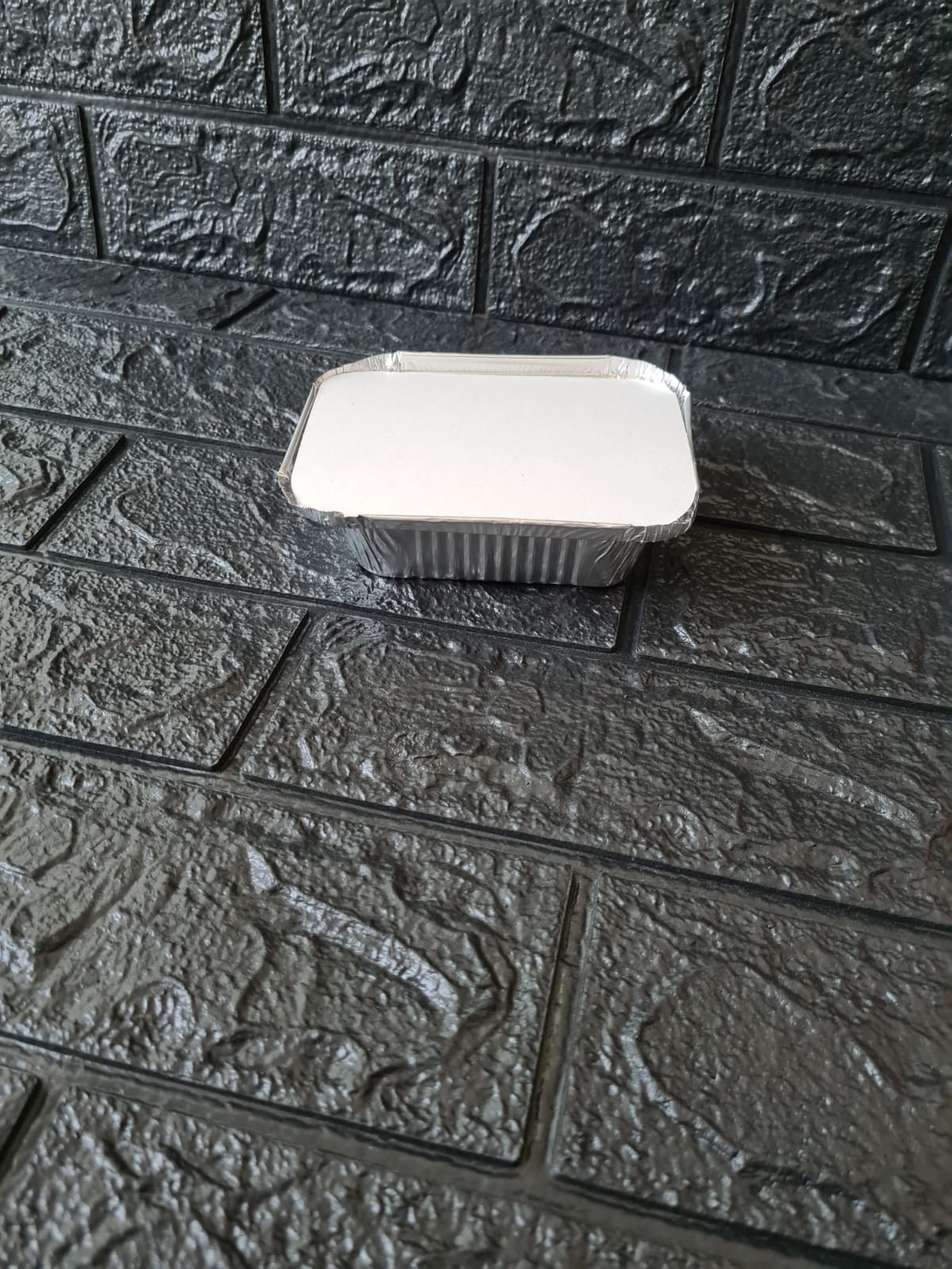Metal: (282, 350, 717, 590)
